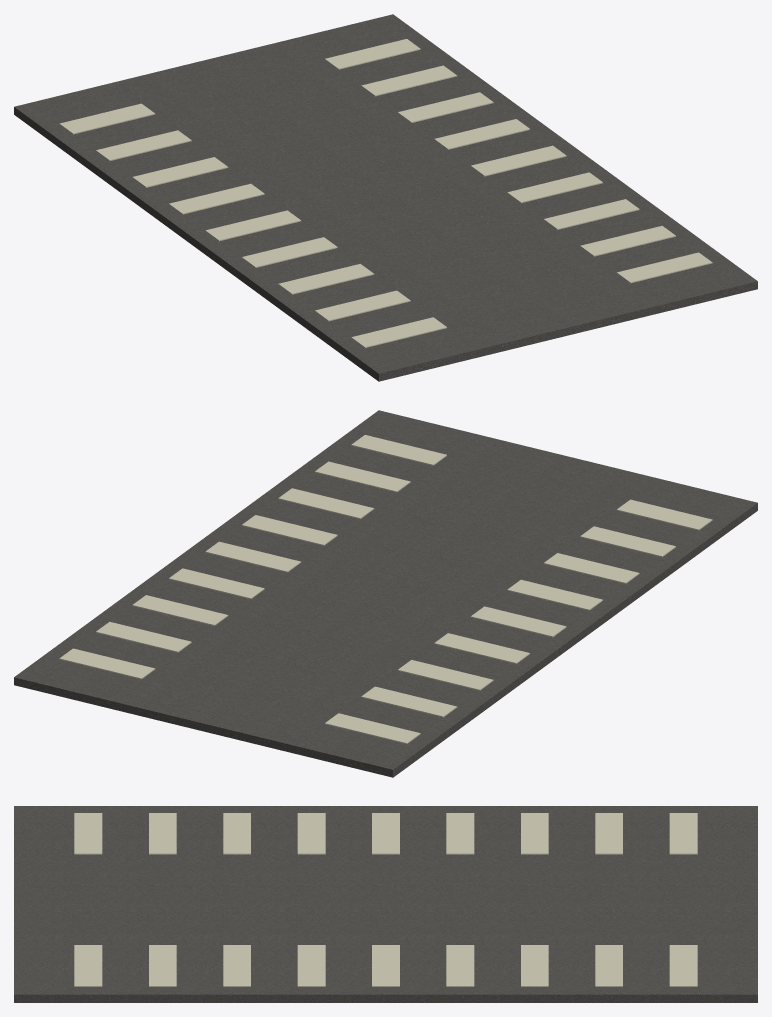
Rendered from intersection.obj.
The picture shows the model from 3 angles, top to bottom: view 1: azimuth 30°, elevation 25°; view 2: azimuth 150°, elevation 25°; view 3: azimuth 270°, elevation 25°; orthographic projection.
Parts seen in each view (by area): view 1: Asphalt, White_Paint; view 2: Asphalt, White_Paint; view 3: Asphalt, White_Paint.
Boxes of the visible parts, box(x1,y1,x2,y2) form: Asphalt: box(14, 14, 757, 381); White_Paint: box(59, 39, 712, 347); Asphalt: box(14, 410, 757, 777); White_Paint: box(59, 435, 712, 743); Asphalt: box(14, 806, 757, 1002); White_Paint: box(74, 813, 697, 986).
Size of the model in its own units: 12 by 0.271 by 20.
